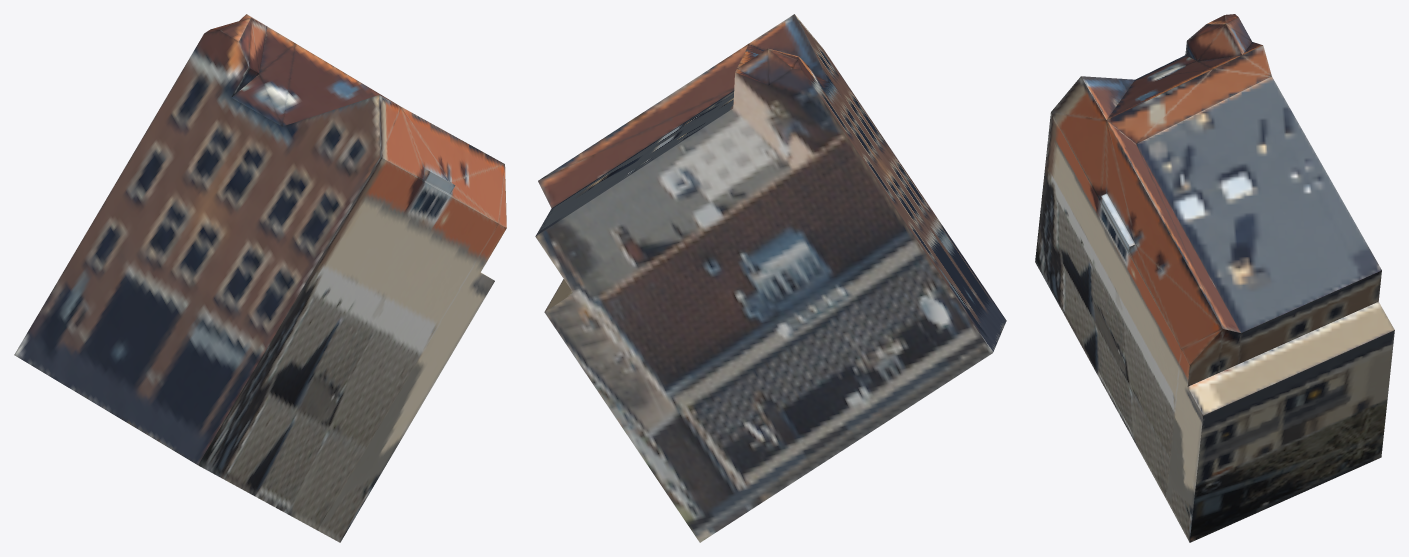
3 views of the same model, side by side, from view 1: azimuth 30°, elevation 25°; view 2: azimuth 150°, elevation 25°; view 3: azimuth 270°, elevation 25° (orthographic). The views are drawn at different scales.
Parts seen in each view (by area): view 1: BAG_0599100000656921 (×5); view 2: BAG_0599100000656921 (×3); view 3: BAG_0599100000656921 (×5).
Boxes of the visible parts, x1,y1,x2,y2 form: BAG_0599100000656921 (×5): (14,14,506,542); BAG_0599100000656921 (×3): (535,14,1006,542); BAG_0599100000656921 (×5): (1035,15,1394,542).
Bounding box in the file's own units: 22.14 × 22.65 × 15.16.
1 material, 1 textured.
